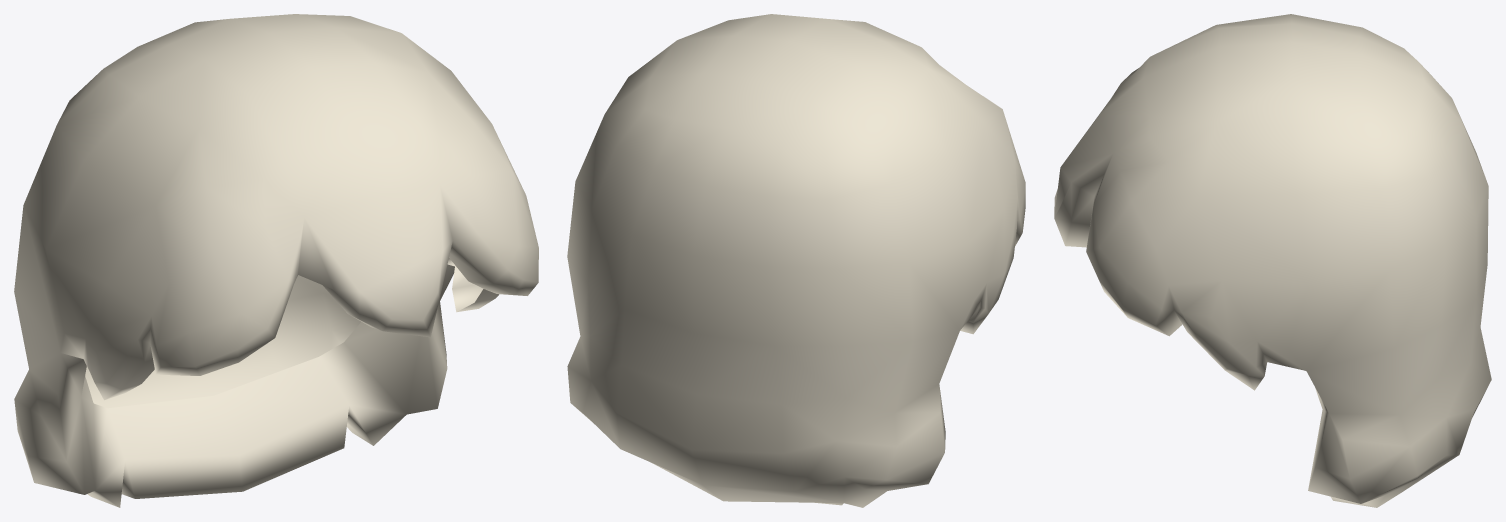
Rendered from Hair_4.fbx.
3 views of the same model, side by side, from view 1: azimuth 30°, elevation 25°; view 2: azimuth 150°, elevation 25°; view 3: azimuth 270°, elevation 25° (orthographic). The views are drawn at different scales.
Parts seen in each view (by area): view 1: Hair_4; view 2: Hair_4; view 3: Hair_4.
Boxes of the visible parts, bbox=[...] form: Hair_4: bbox=[14, 14, 538, 507]; Hair_4: bbox=[567, 14, 1025, 507]; Hair_4: bbox=[1054, 14, 1491, 507].
Size of the model in its own units: 69.64 by 74.84 by 70.22.
